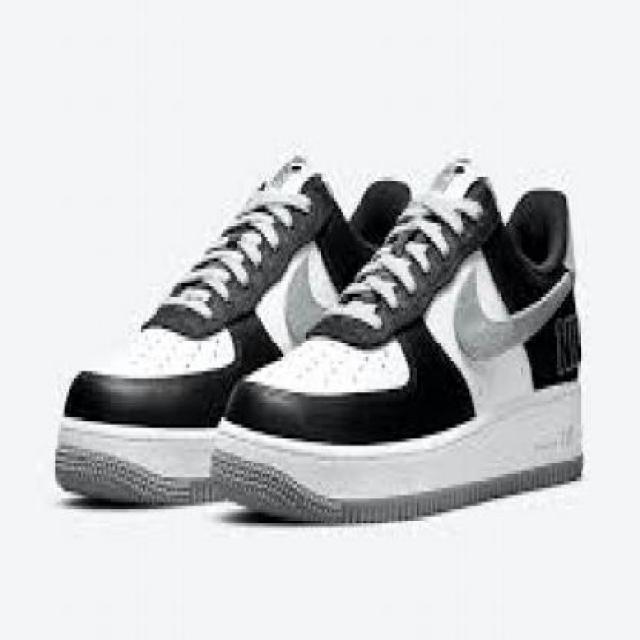Nike: (449, 252, 580, 361), (279, 248, 339, 341)
